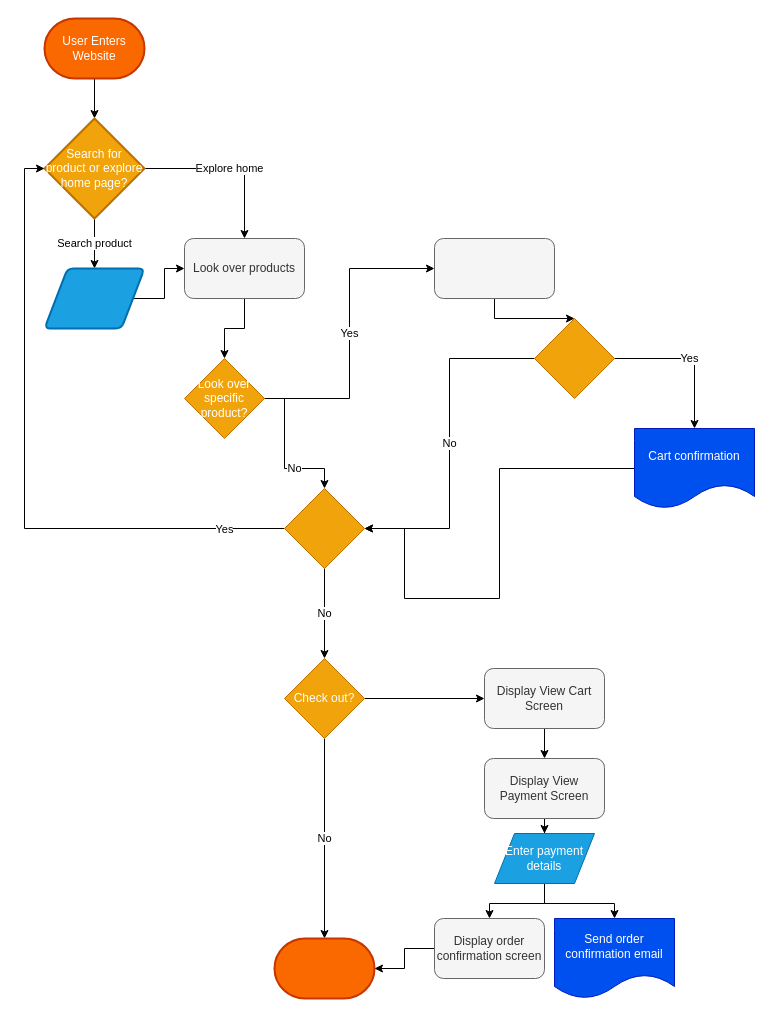
The diagram is 772 pixels wide and 1016 high, and some of its shapes have lost their labels. The shapes that lost their labels are listed below. From the top down, each one's box as (x1, y1, x2, y2) in pixels, then its label:
(434, 238, 554, 298): Output product's webpage
(43, 267, 145, 329): Product input
(534, 318, 614, 398): Add product to cart?
(284, 488, 364, 568): Continue Shopping?
(273, 937, 375, 999): Leave Website
